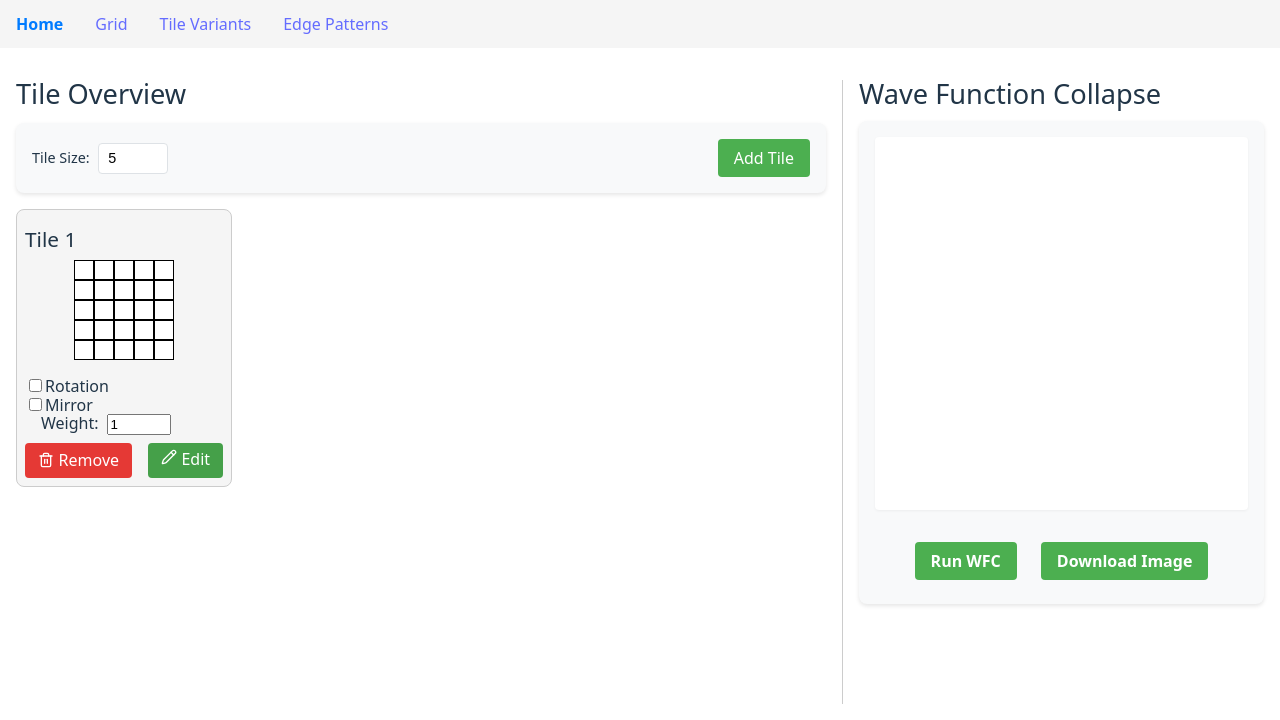
App component › increments the number of Tile components when clicking the "Add Tile" button
Find and click the "Add Tile" button (case-insensitive)
Step 1. Click the button "Add Tile" → (764, 158), box [718,139,810,177]
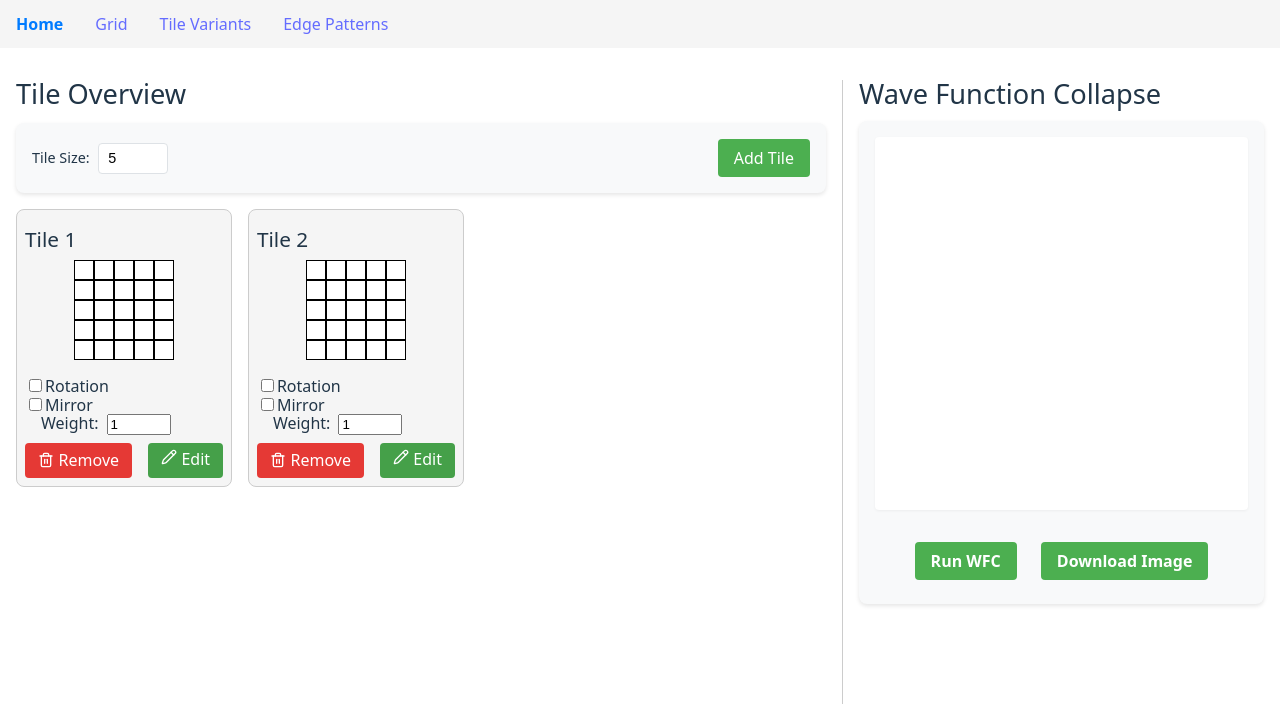
Now the number of elements with class "tile-wrapper" is 2, box [16,209,232,487]; [248,209,464,487]
